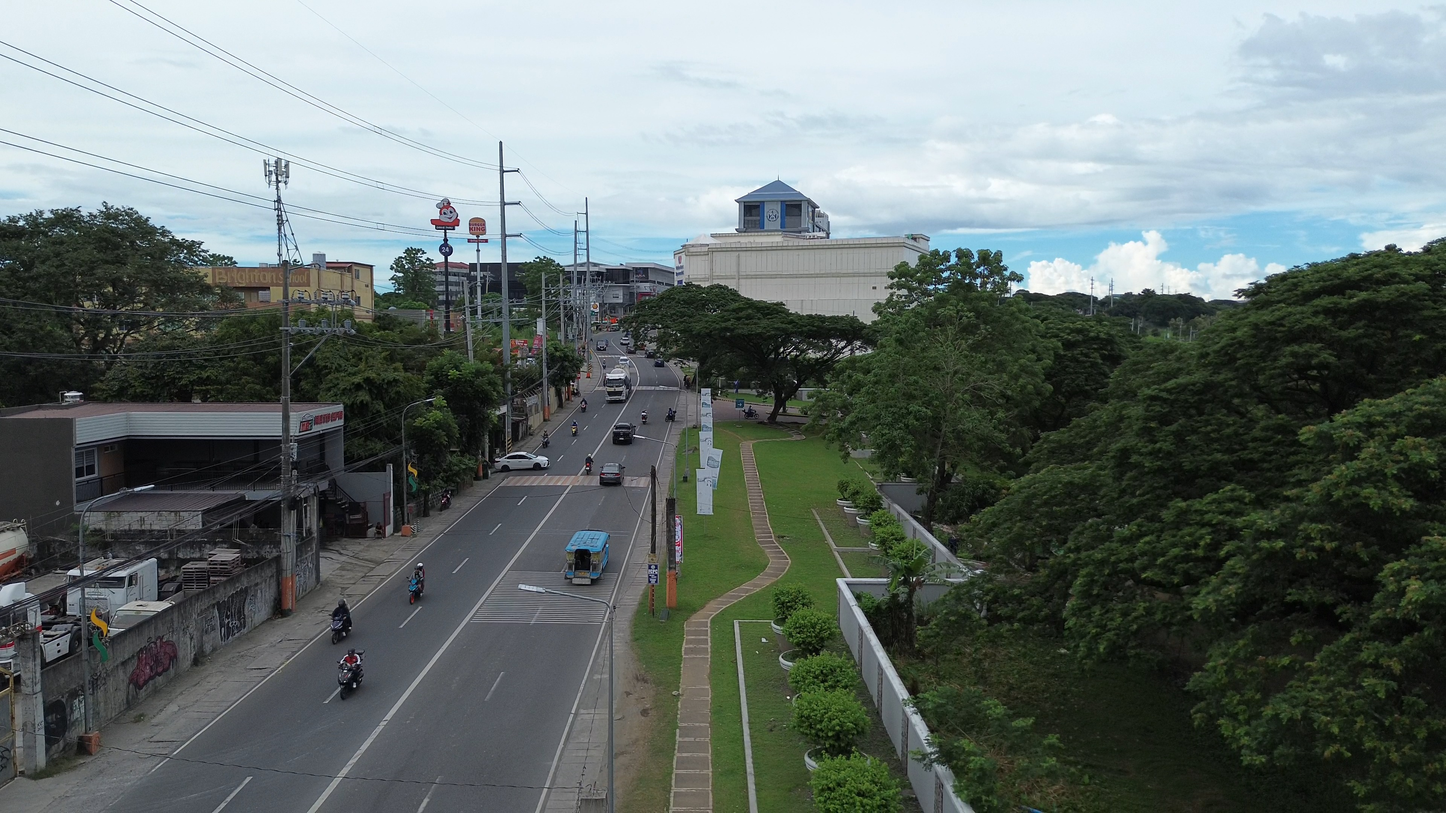car: (495, 451, 549, 471), (599, 462, 624, 484), (596, 340, 608, 351), (653, 358, 665, 367), (645, 350, 656, 358)
motorcycle: (337, 658, 363, 699), (331, 617, 349, 644), (409, 577, 424, 603), (439, 489, 451, 510), (743, 406, 758, 418), (665, 408, 676, 422), (541, 435, 550, 448), (585, 460, 592, 475), (641, 411, 648, 425), (580, 400, 587, 412), (571, 425, 578, 437)
vehicle: (84, 559, 157, 616), (565, 530, 609, 584), (108, 601, 172, 636), (0, 521, 29, 578), (338, 651, 364, 699), (605, 366, 632, 402), (612, 422, 634, 444), (409, 575, 423, 603), (744, 405, 757, 418), (584, 458, 593, 475), (665, 408, 675, 422), (596, 340, 608, 351), (645, 349, 656, 358), (641, 410, 647, 424)
